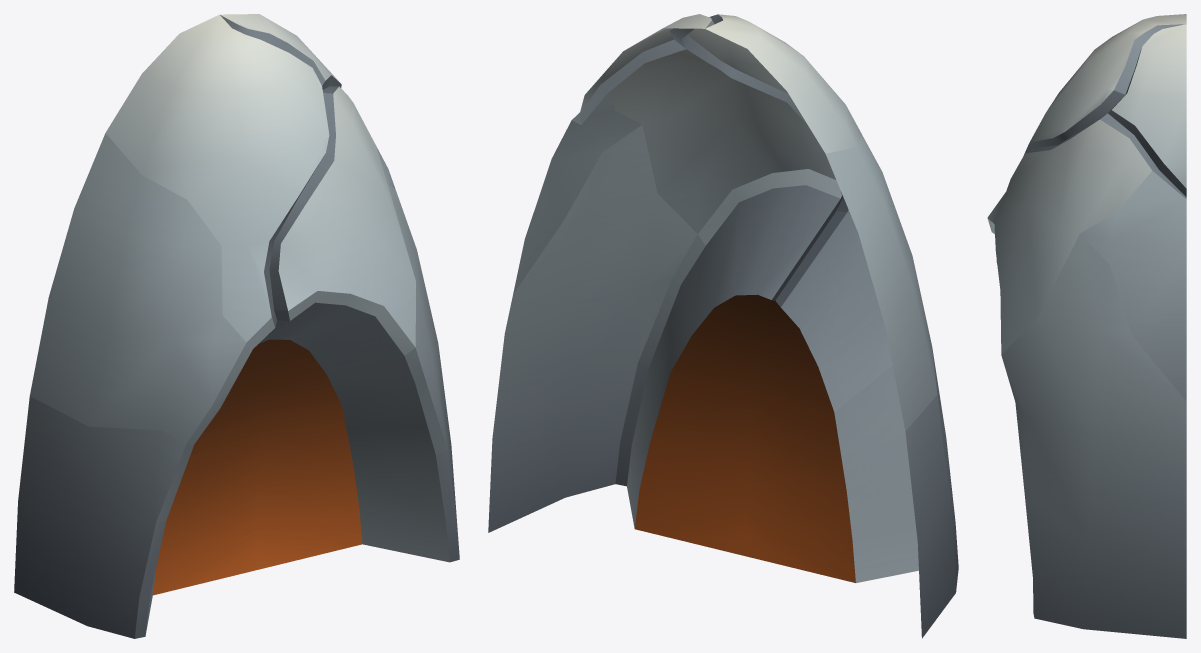
File: elf_oven.fbx
The picture shows the model from 3 angles, left to right: view 1: azimuth 30°, elevation 25°; view 2: azimuth 150°, elevation 25°; view 3: azimuth 270°, elevation 25°; orthographic projection. The views are drawn at different scales.
Parts seen in each view (by area): view 1: elf_oven; view 2: elf_oven; view 3: elf_oven.
Part boxes in pixels (x1,y1,x2,y2): elf_oven: (14,14,459,638); elf_oven: (488,14,958,638); elf_oven: (987,14,1186,638).
Size of the model in its own units: 346 by 424 by 148.
